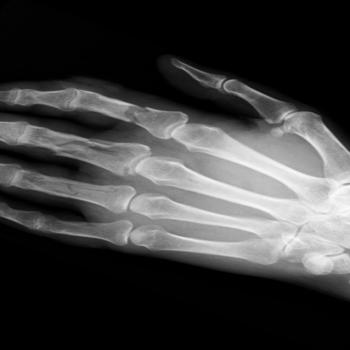Fracture: (51, 136, 124, 164), (47, 176, 120, 202)
